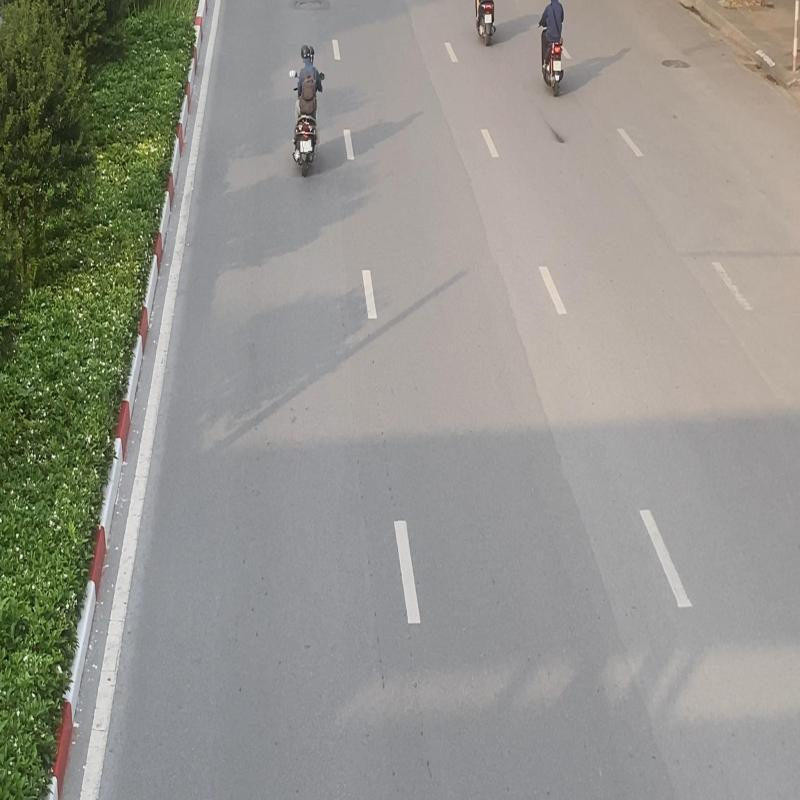helmet: (300, 44, 312, 64)
licenseplate: (303, 139, 313, 154)
motorcyclist: (286, 43, 326, 178)
